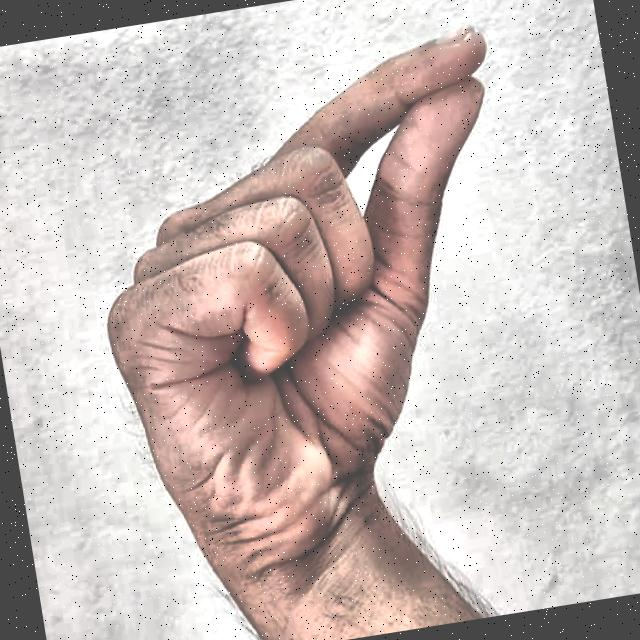Anusshar: (3, 0, 579, 640)
